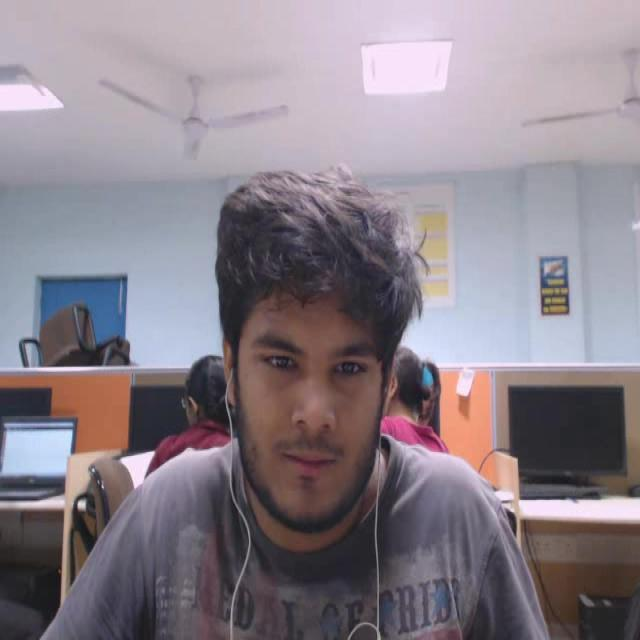Engaged: (184, 145, 474, 560)
